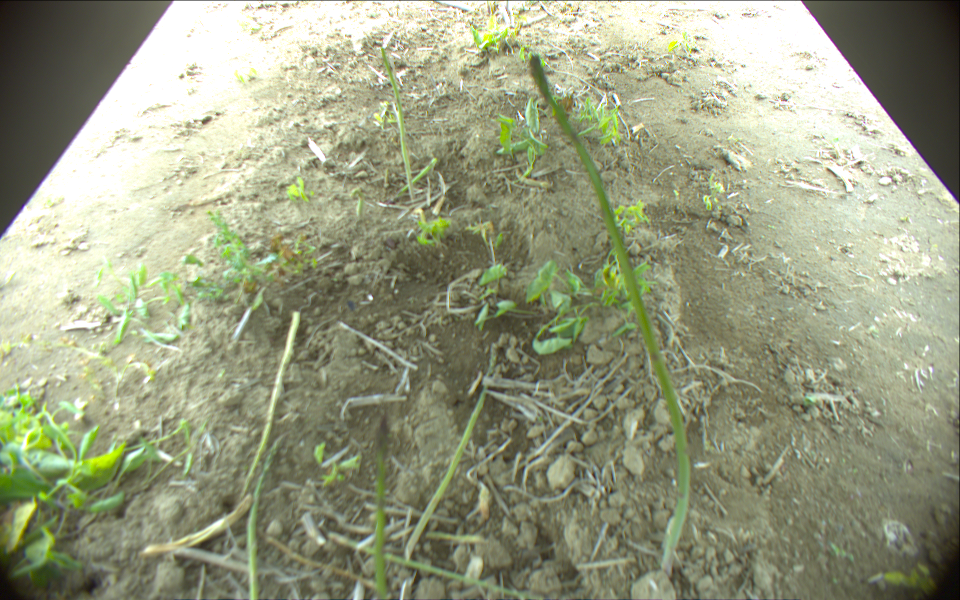aspa: (527, 51, 693, 588), (402, 384, 492, 559), (329, 532, 541, 597), (236, 311, 302, 498), (247, 435, 285, 600), (378, 46, 414, 197), (374, 417, 393, 600)
